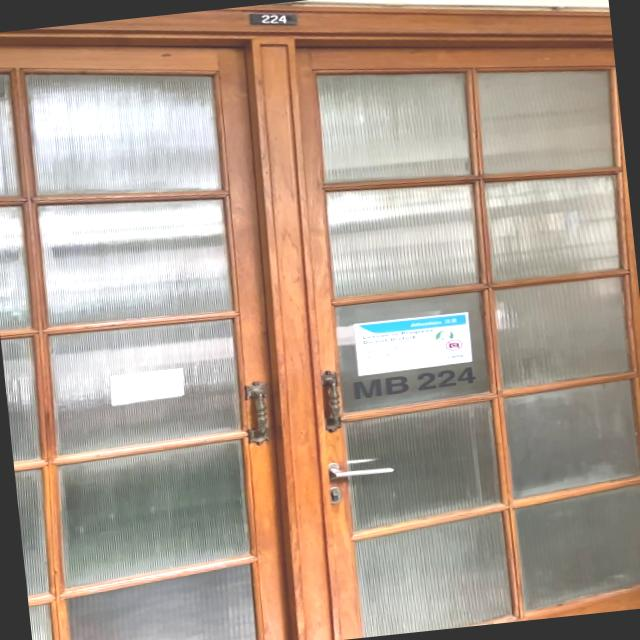room224: (245, 7, 300, 30)
room224Window: (346, 365, 479, 400)
